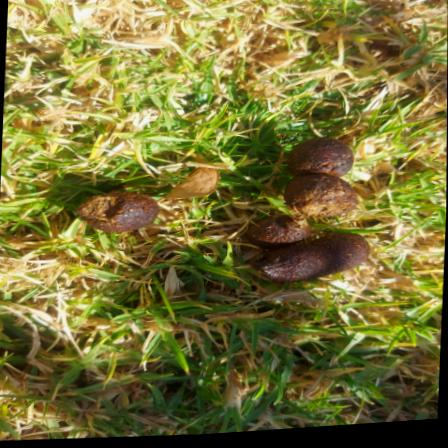dog-poop: (235, 132, 389, 299), (58, 174, 178, 252)
